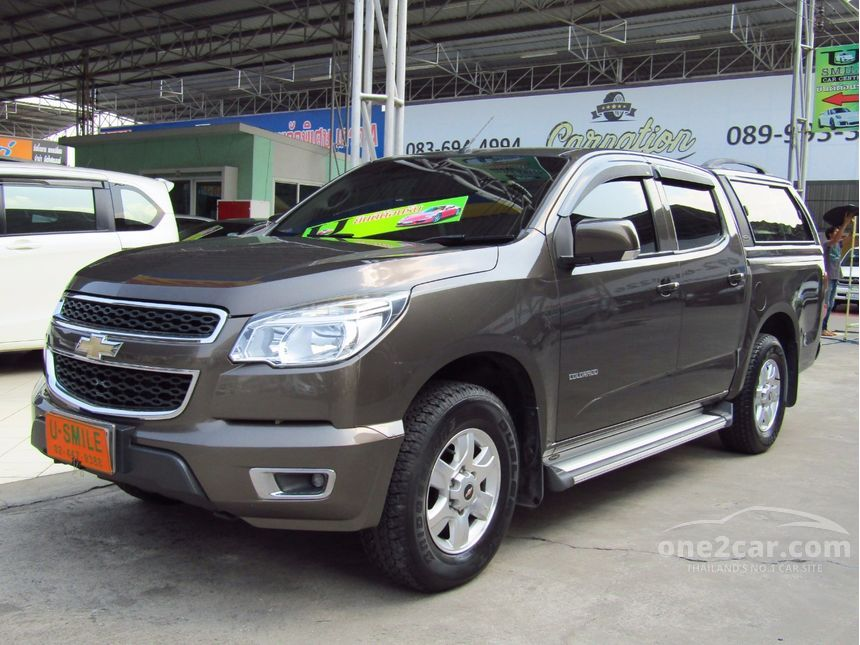pickup: (30, 140, 829, 592)
